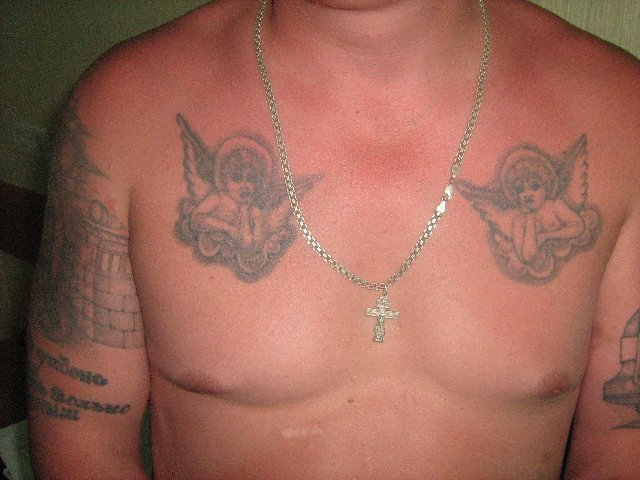tatu1_angel: (161, 105, 330, 284), (449, 130, 612, 291)
